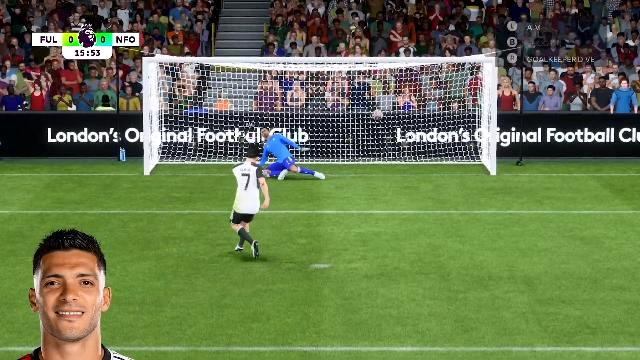bottom-left: (157, 121, 260, 180)
bottom-right: (374, 120, 484, 176)
center-down: (262, 120, 372, 178)
center-up: (262, 68, 372, 120)
football: (370, 109, 388, 123)
goalkeeper: (257, 123, 325, 183)
player: (227, 144, 286, 262)
top-left: (157, 68, 261, 120)
top-right: (374, 68, 484, 119)
